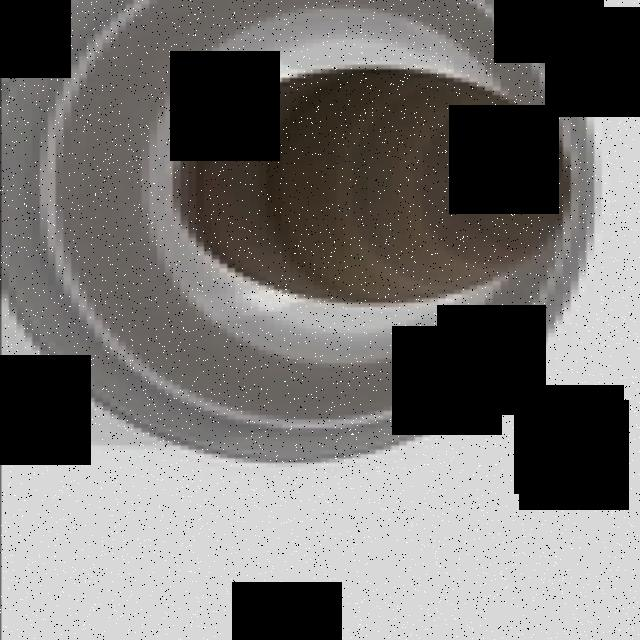Saturn: (0, 0, 601, 462)
